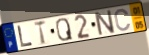2: (73, 13, 92, 41)
C: (114, 8, 132, 32)
L: (16, 24, 35, 48)
N: (93, 9, 117, 37)
Q: (55, 17, 74, 42)
T: (33, 19, 48, 46)
